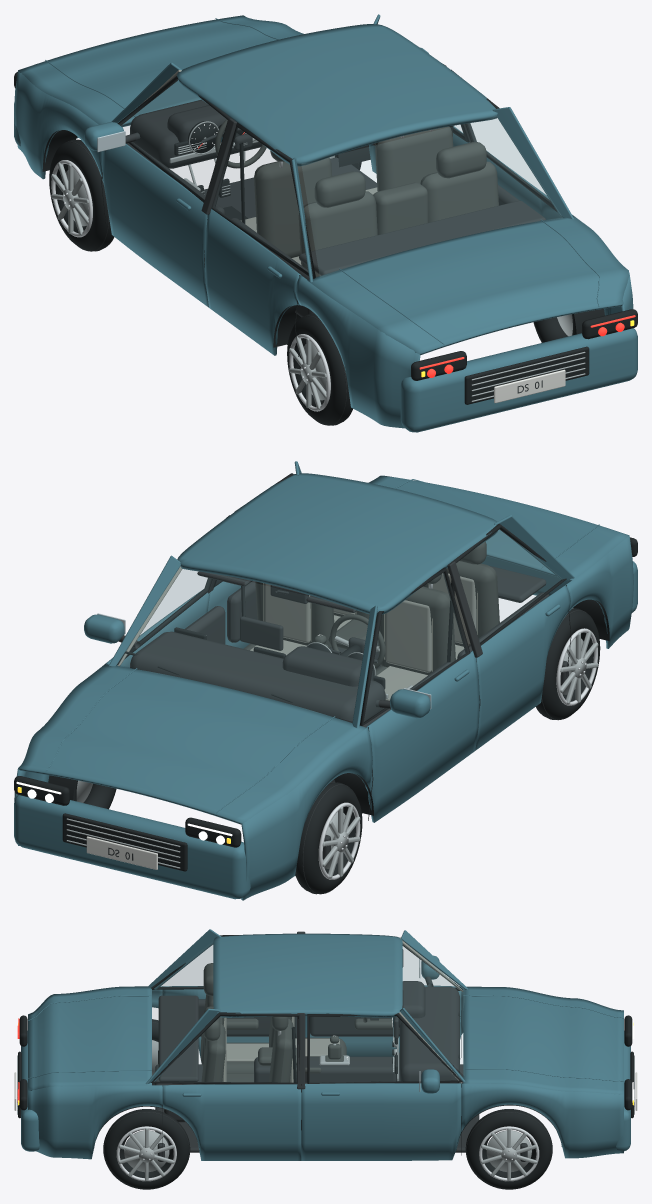
Rendered from DS_Sedan_A.glb.
3 views of the same model, one above another, from view 1: azimuth 30°, elevation 25°; view 2: azimuth 150°, elevation 25°; view 3: azimuth 270°, elevation 25° (orthographic). The views are drawn at different scales.
Visible parts, largest first — view 1: Roof, Trunk, Glass_Rear, Hood, DoorFront_L, BumperFacia_-1, DoorRear_L, RearQuarter_L, Glass_Rear_L, Glass_Front_L, RearParcelShelf, Backrest (+31 smaller); view 2: Hood, Roof, Glass_Windshield, DoorFront_L, BumperFacia_1, Dashboard, DoorRear_L, Trunk, Glass_Front_L, FrontWing_L, Glass_Rear_L, RearQuarter_L (+34 smaller); view 3: Roof, Hood, DoorFront_R, Trunk, DoorRear_R, Glass_Front_R, Glass_Rear_R, FrontWing_R, RearQuarter_R, Glass_Windshield, Glass_Rear, Dashboard (+31 smaller).
Part boxes in pixels (left/top/right/bottom): Roof: left=177, top=24, right=497, bottom=166; Trunk: left=307, top=215, right=629, bottom=355; Glass_Rear: left=302, top=116, right=561, bottom=276; Hood: left=18, top=15, right=303, bottom=126; DoorFront_L: left=101, top=143, right=208, bottom=307; BumperFacia_-1: left=400, top=328, right=637, bottom=432; DoorRear_L: left=204, top=209, right=301, bottom=355; RearQuarter_L: left=295, top=275, right=420, bottom=428; Glass_Rear_L: left=215, top=128, right=307, bottom=271; Glass_Front_L: left=121, top=81, right=226, bottom=198; RearParcelShelf: left=299, top=200, right=545, bottom=275; Backrest: left=254, top=157, right=331, bottom=257; Hood: left=18, top=664, right=366, bottom=824; Roof: left=177, top=473, right=497, bottom=614; Glass_Windshield: left=118, top=567, right=368, bottom=720; DoorFront_L: left=366, top=650, right=479, bottom=822; BumperFacia_1: left=14, top=795, right=250, bottom=899; Dashboard: left=130, top=631, right=385, bottom=722; DoorRear_L: left=475, top=585, right=570, bottom=750; Trunk: left=368, top=475, right=628, bottom=580; Glass_Front_L: left=364, top=573, right=465, bottom=721; FrontWing_L: left=241, top=727, right=372, bottom=900; Glass_Rear_L: left=457, top=530, right=561, bottom=641; RearQuarter_L: left=565, top=535, right=633, bottom=648; Roof: left=213, top=933, right=402, bottom=1017; Hood: left=463, top=986, right=623, bottom=1094; DoorFront_R: left=301, top=1083, right=461, bottom=1160; Trunk: left=28, top=986, right=151, bottom=1090; DoorRear_R: left=162, top=1084, right=301, bottom=1160; Glass_Front_R: left=310, top=1017, right=457, bottom=1081; Glass_Rear_R: left=156, top=1016, right=296, bottom=1081; FrontWing_R: left=461, top=1083, right=623, bottom=1158; RearQuarter_R: left=28, top=1085, right=162, bottom=1159; Glass_Windshield: left=403, top=945, right=463, bottom=1074; Glass_Rear: left=150, top=942, right=212, bottom=1075; Dashboard: left=400, top=986, right=459, bottom=1083.
Bounding box in the file's own units: 2.25 × 1.46 × 4.68.
